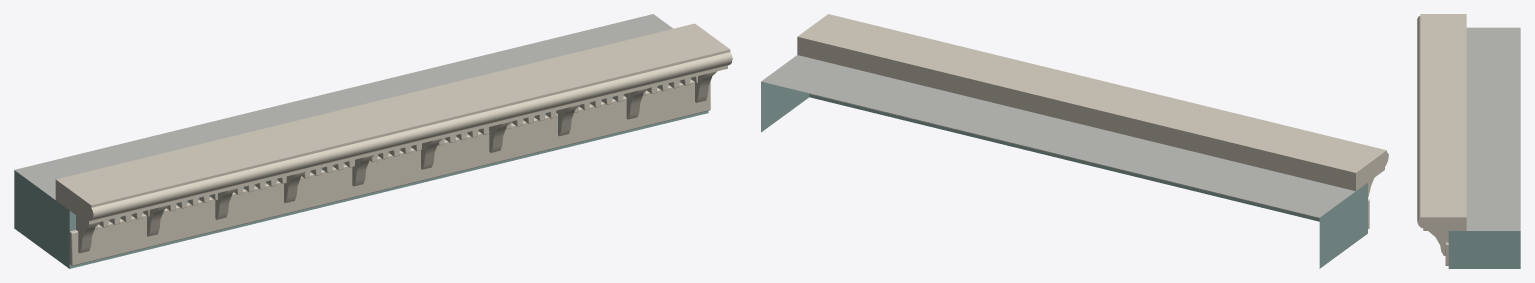
The model's file is cap_cornice_8.glb.
3 views of the same model, side by side, from view 1: azimuth 30°, elevation 25°; view 2: azimuth 150°, elevation 25°; view 3: azimuth 270°, elevation 25° (orthographic). The views are drawn at different scales.
Parts seen in each view (by area): view 1: cap_cornice_8; view 2: cap_cornice_8; view 3: cap_cornice_8.
Boxes of the visible parts, x1,y1,x2,y2 form: cap_cornice_8: (14, 14, 732, 268); cap_cornice_8: (761, 14, 1388, 268); cap_cornice_8: (1417, 14, 1520, 268).
Bounding box in the file's own units: 8 × 0.95 × 1.72.
